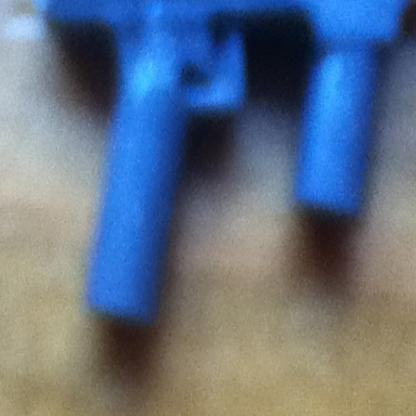gun: (26, 0, 415, 318)
